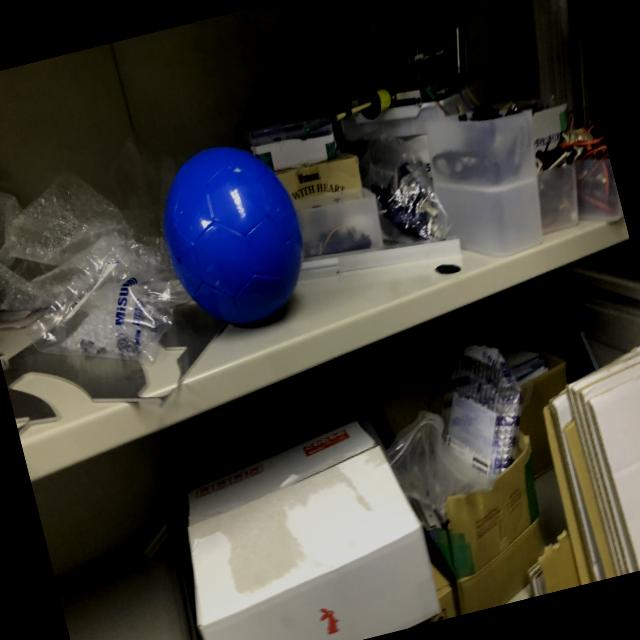blue_ball: (148, 136, 316, 333)
